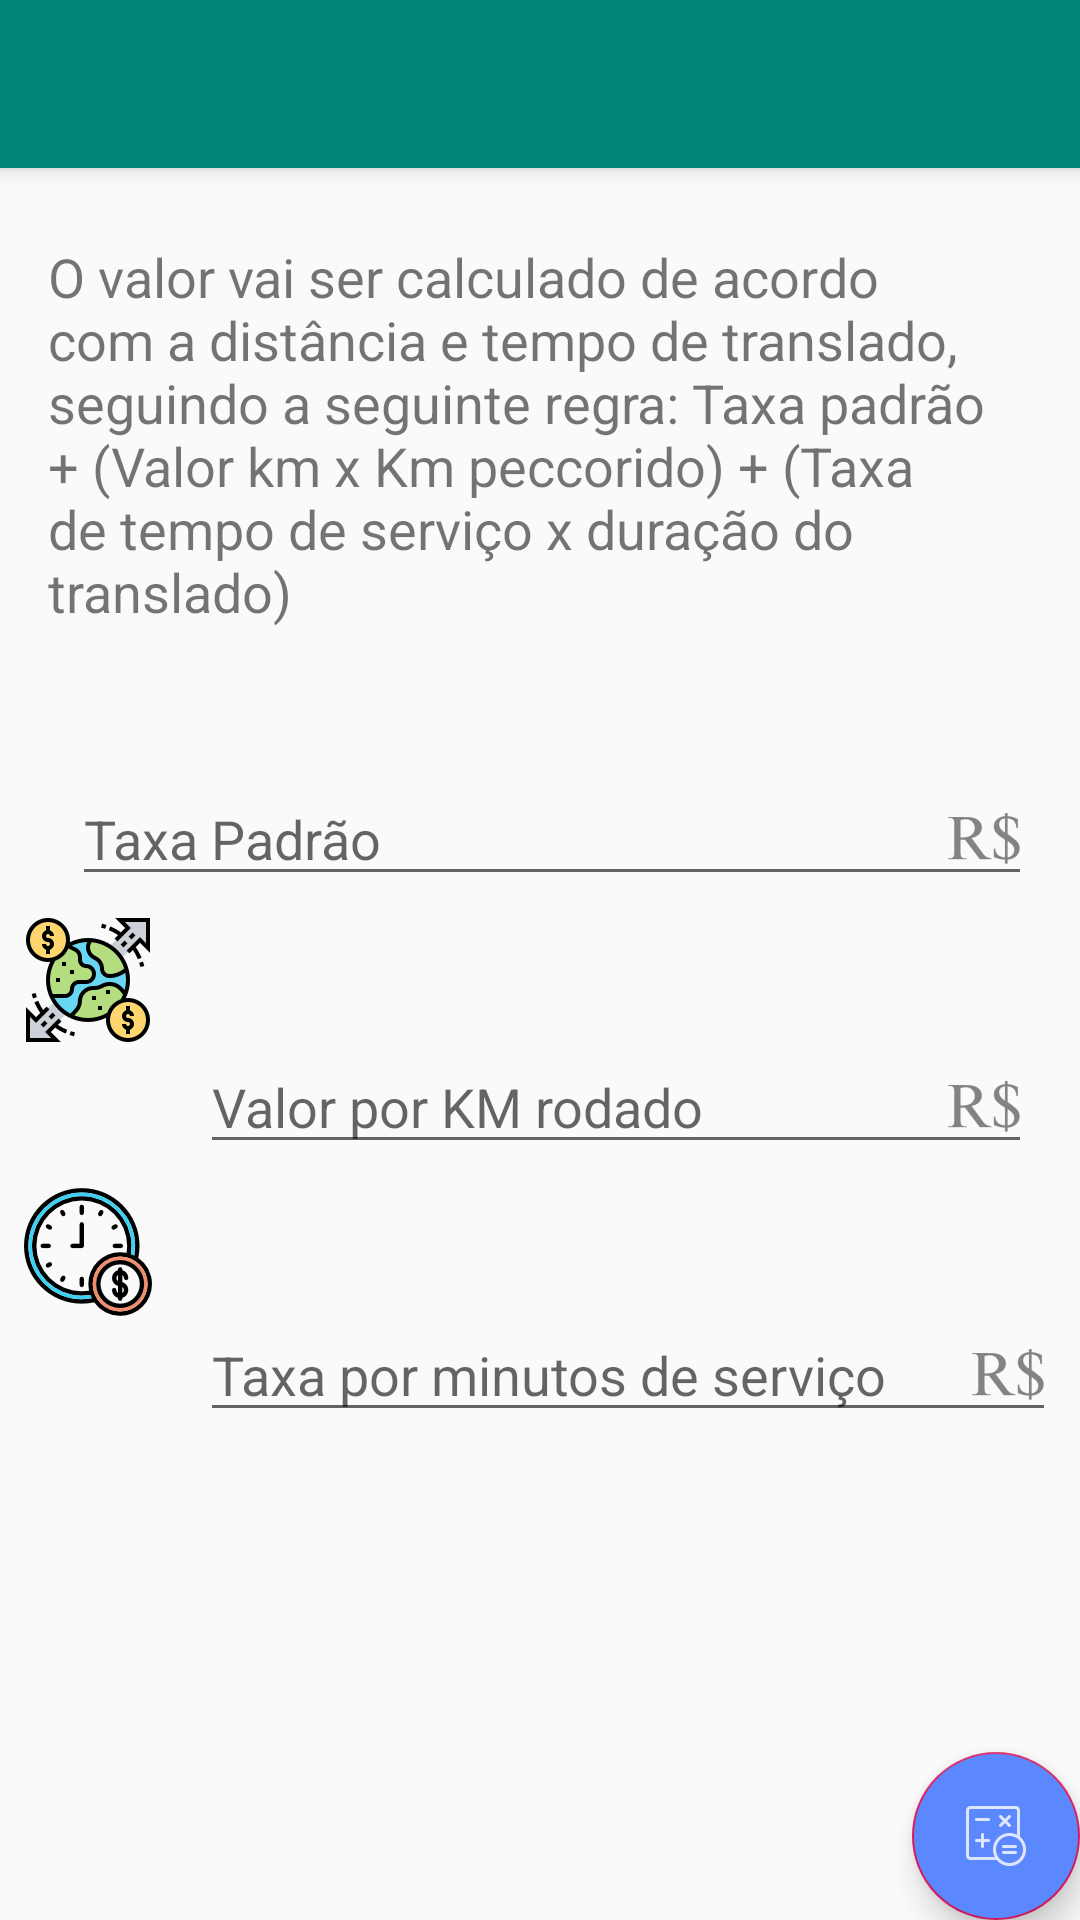

Icon bounding boxes for this 1080 × 1920 phone screenshot, format (x1, y1, x2, y2):
calculadora: (912, 1752, 1080, 1920)
clock: (24, 1188, 152, 1316)
expansion: (26, 918, 150, 1042)
